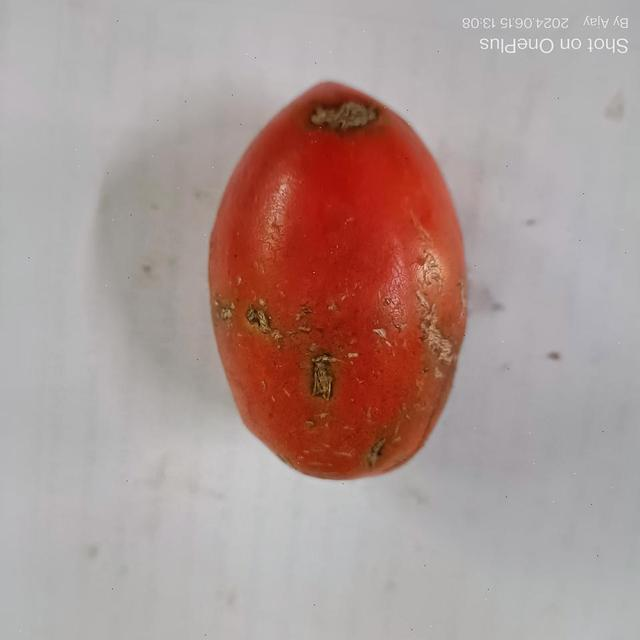Bacterial Spot Fruit: (9, 13, 290, 302)
